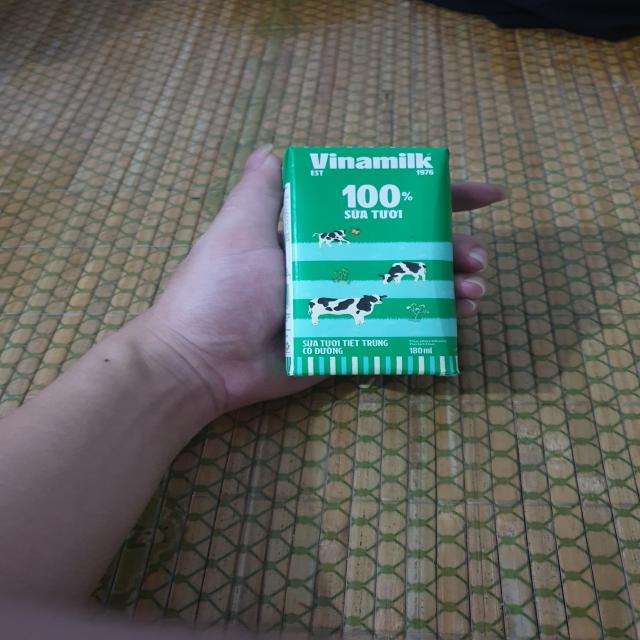Vina: (283, 144, 464, 383)
